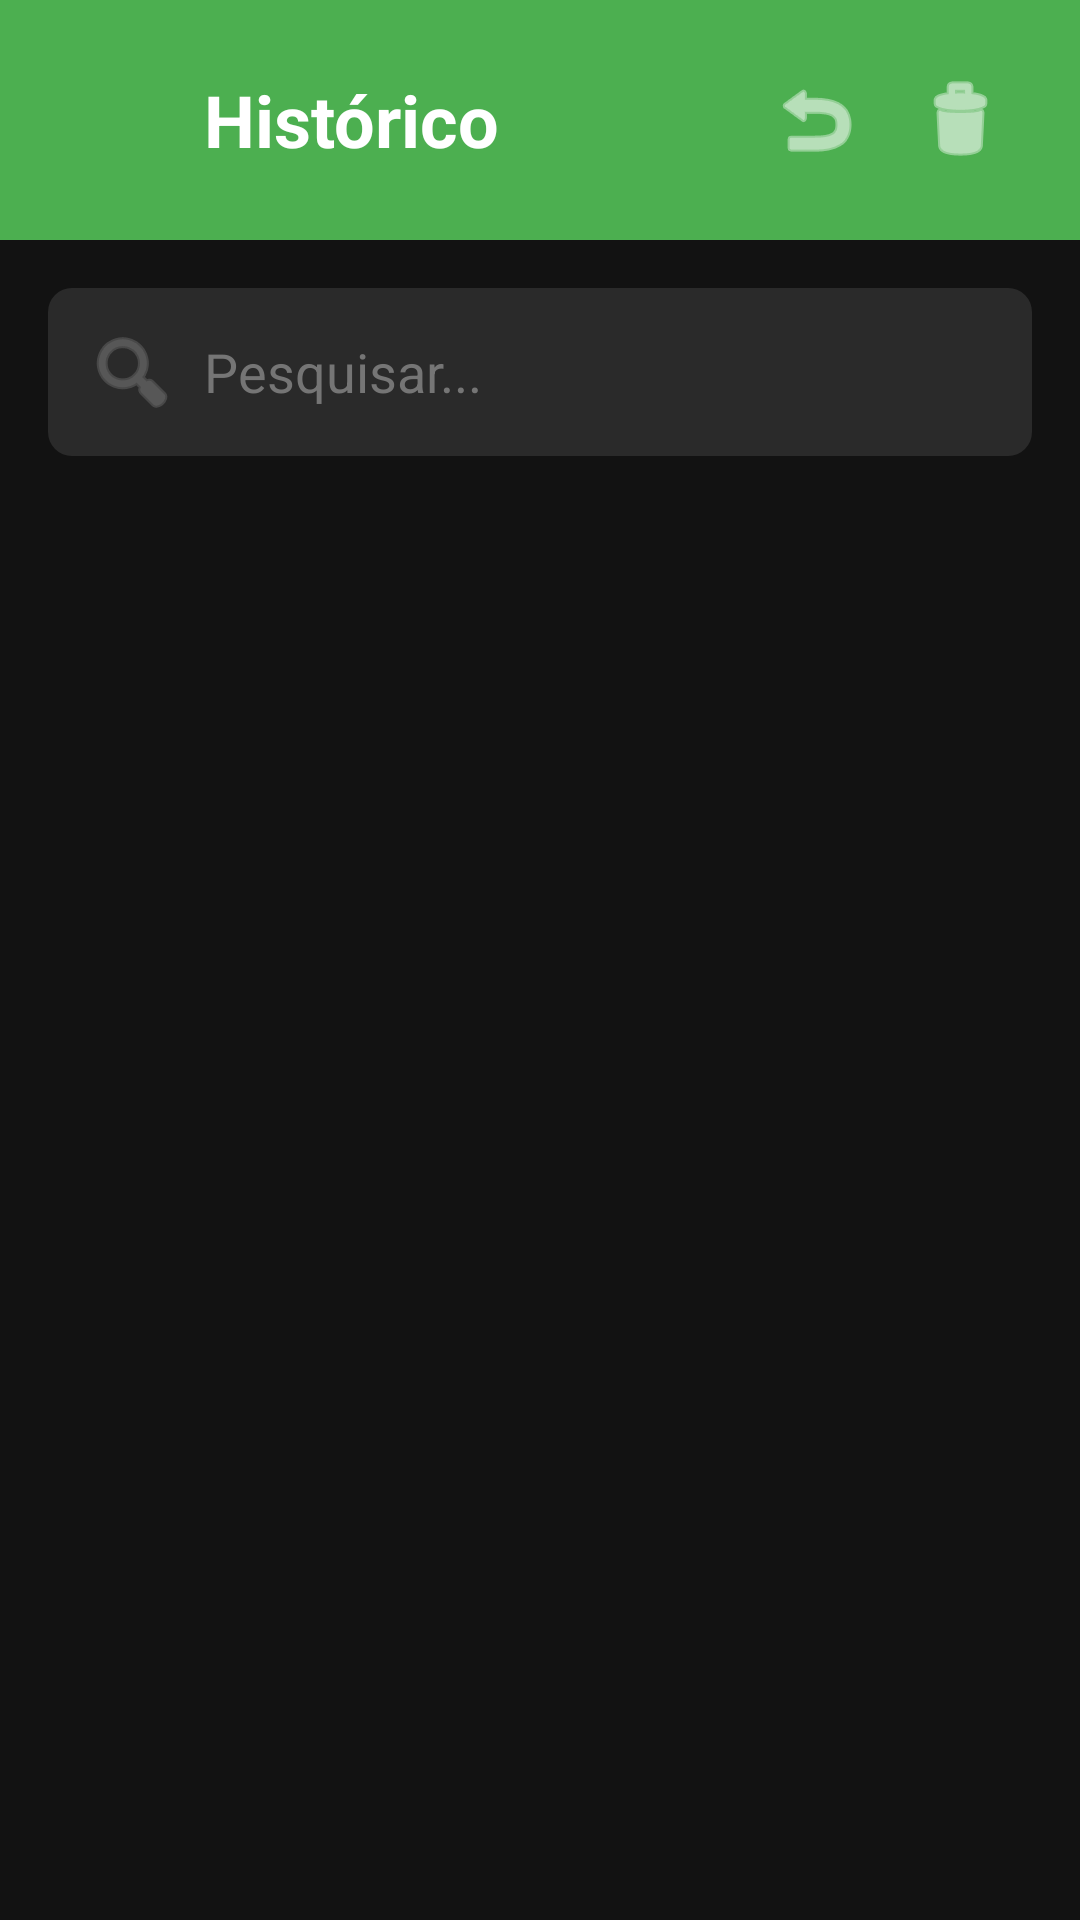

Icon bounding boxes for this 1080w x 1920h phone screenshot, format (x1, y1, x2, y2):
delete: (934, 81, 987, 156)
revert: (783, 89, 852, 152)
